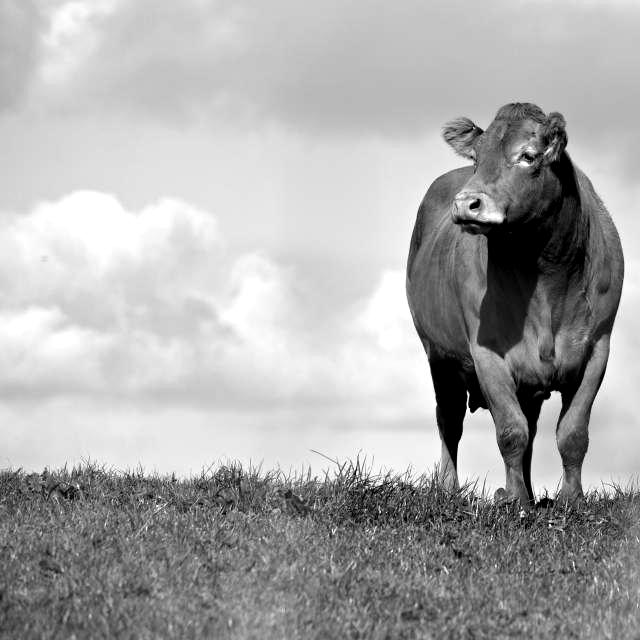COW: (406, 103, 624, 505)
